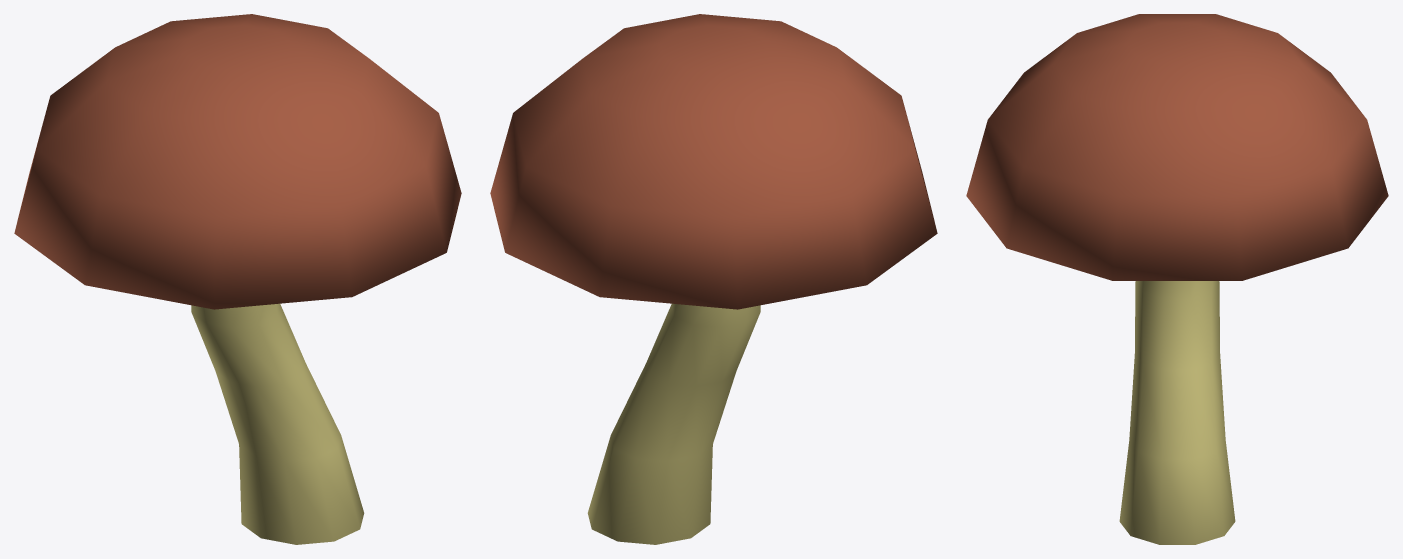
Rendered from Mushroom_Brown_Tall_3.fbx.
3 views of the same model, side by side, from view 1: azimuth 30°, elevation 25°; view 2: azimuth 150°, elevation 25°; view 3: azimuth 270°, elevation 25° (orthographic). The views are drawn at different scales.
Visible parts, largest first — view 1: Cylinder.235, Cylinder.236; view 2: Cylinder.235, Cylinder.236; view 3: Cylinder.235, Cylinder.236.
Part boxes in pixels (bbox=[...]): Cylinder.235: bbox=[14, 14, 461, 309]; Cylinder.236: bbox=[191, 303, 364, 544]; Cylinder.235: bbox=[490, 14, 937, 309]; Cylinder.236: bbox=[587, 303, 760, 544]; Cylinder.235: bbox=[966, 14, 1388, 280]; Cylinder.236: bbox=[1119, 281, 1235, 544].
Size of the model in its own units: 77.71 by 95.82 by 81.71.
